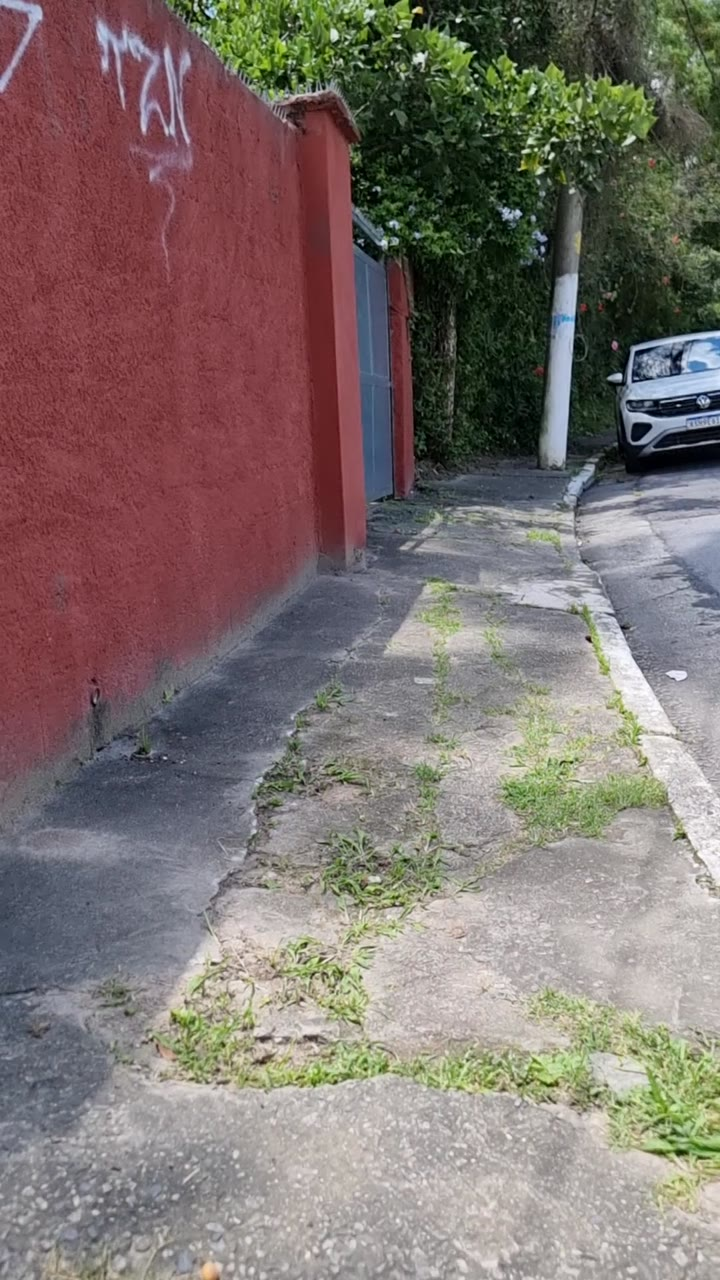obstaculo: (540, 128, 583, 474)
